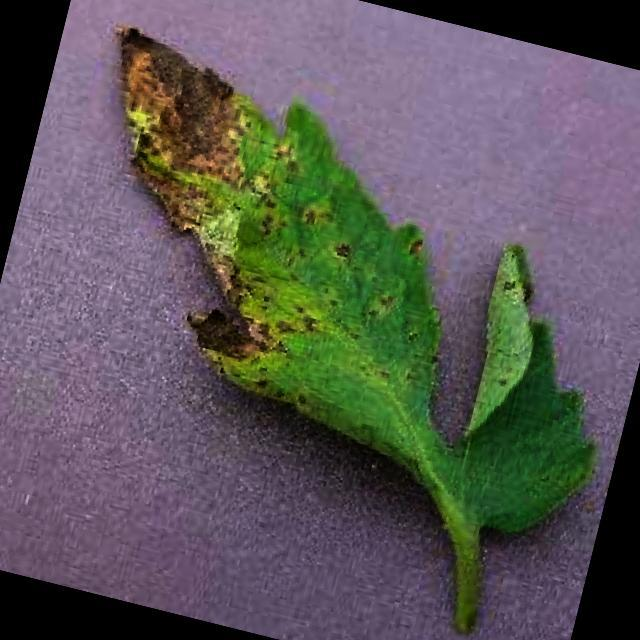Tomato Septoria spot leaf: (28, 23, 640, 556)
